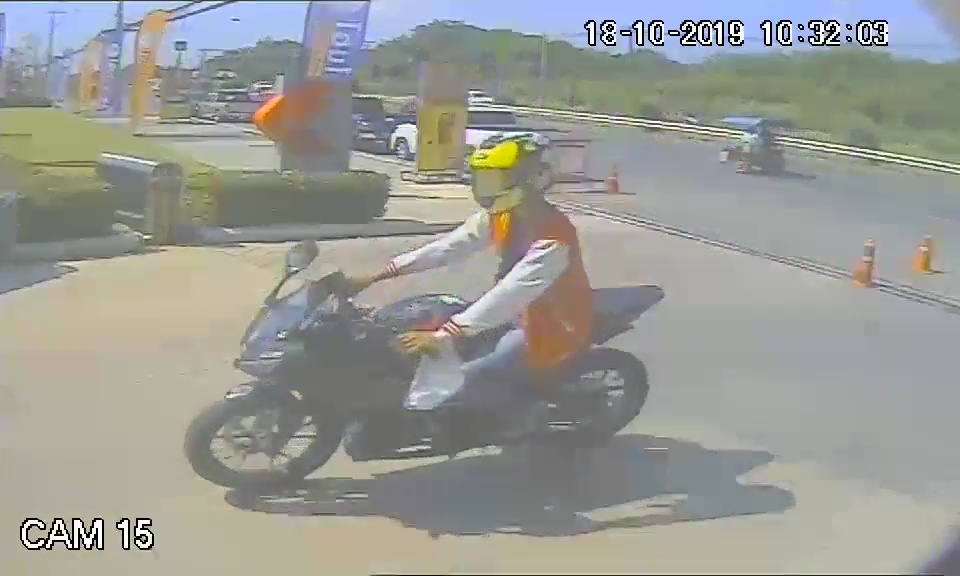motorcycle: (183, 271, 667, 487)
